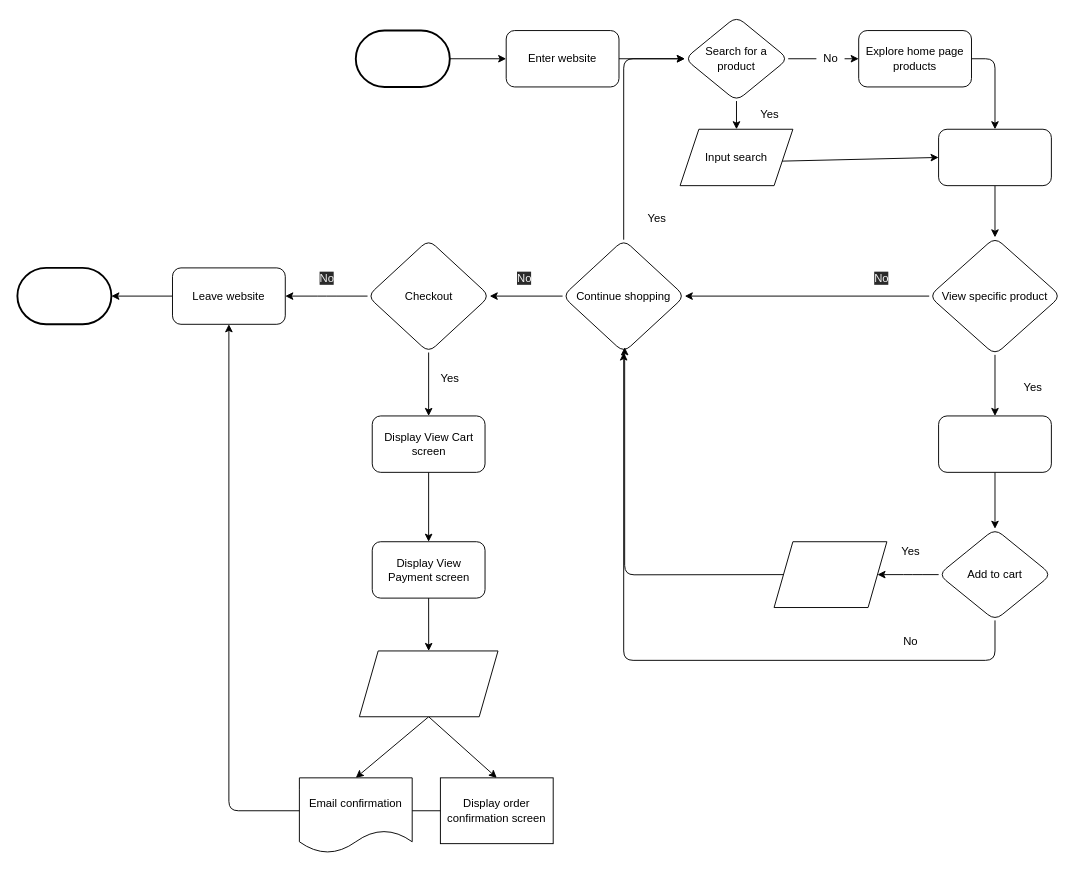
Some shapes in this 1077 by 870 pixel diagram are drawn without their labels. The shapes that lost their labels are listed below. From the top down, each one's box as (x1, y1, x2, y2) in pixels, then its label:
(354, 29, 450, 87): Start
(938, 128, 1051, 186): Look at products
(16, 266, 112, 325): End
(938, 415, 1051, 472): Open product webpage
(773, 541, 887, 608): Added to cart confirmation
(358, 650, 498, 717): Input payment info
